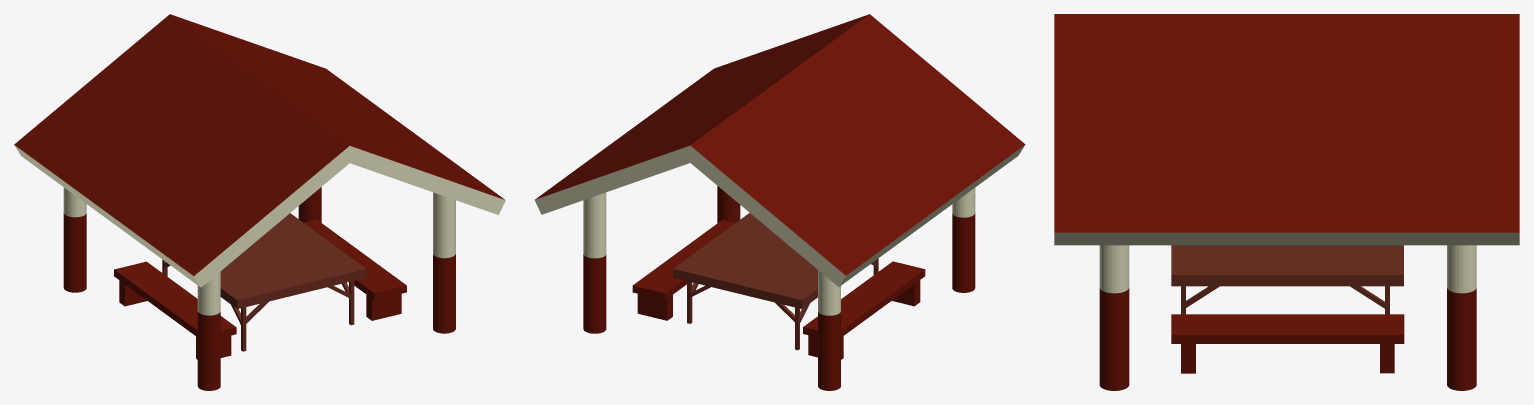
The model's file is Kubo.fbx.
3 views of the same model, side by side, from view 1: azimuth 30°, elevation 25°; view 2: azimuth 150°, elevation 25°; view 3: azimuth 270°, elevation 25° (orthographic). The views are drawn at different scales.
Parts seen in each view (by area): view 1: Cube, Cube.001, Cube.007, Cylinder.002, Cube.012, Cylinder, Cylinder.001, Cube.018, Cube.020, Cylinder.003; view 2: Cube, Cube.001, Cube.007, Cylinder.003, Cube.012, Cylinder.001, Cylinder, Cube.018, Cube.019, Cylinder.002; view 3: Cube.001, Cube.007, Cube.018, Cylinder.002, Cylinder.003, Cube, Cube.019, Cube.020.
Boxes of the visible parts, x1,y1,x2,y2 form: Cube: (14, 14, 349, 287); Cube.001: (171, 14, 505, 214); Cube.007: (220, 213, 366, 308); Cylinder.002: (433, 192, 455, 333); Cube.012: (114, 261, 236, 337); Cylinder: (197, 271, 220, 390); Cylinder.001: (63, 187, 86, 292); Cube.018: (304, 219, 406, 300); Cube.020: (366, 293, 401, 320); Cylinder.003: (298, 187, 321, 222); Cube: (683, 14, 1025, 286); Cube.001: (534, 14, 868, 214); Cube.007: (673, 213, 817, 308); Cylinder.003: (583, 192, 606, 333); Cube.012: (803, 261, 925, 337); Cylinder.001: (818, 270, 840, 390); Cylinder: (952, 188, 975, 292); Cube.018: (632, 220, 735, 300); Cube.019: (637, 294, 672, 320); Cylinder.002: (717, 186, 740, 223); Cube.001: (1054, 14, 1519, 245); Cube.007: (1171, 245, 1403, 286); Cube.018: (1171, 314, 1404, 343); Cylinder.002: (1099, 245, 1129, 390); Cylinder.003: (1447, 245, 1476, 390); Cube: (1054, 14, 1519, 14); Cube.019: (1380, 344, 1394, 373); Cube.020: (1181, 344, 1195, 373).
Size of the model in its own units: 794 by 557 by 793.
